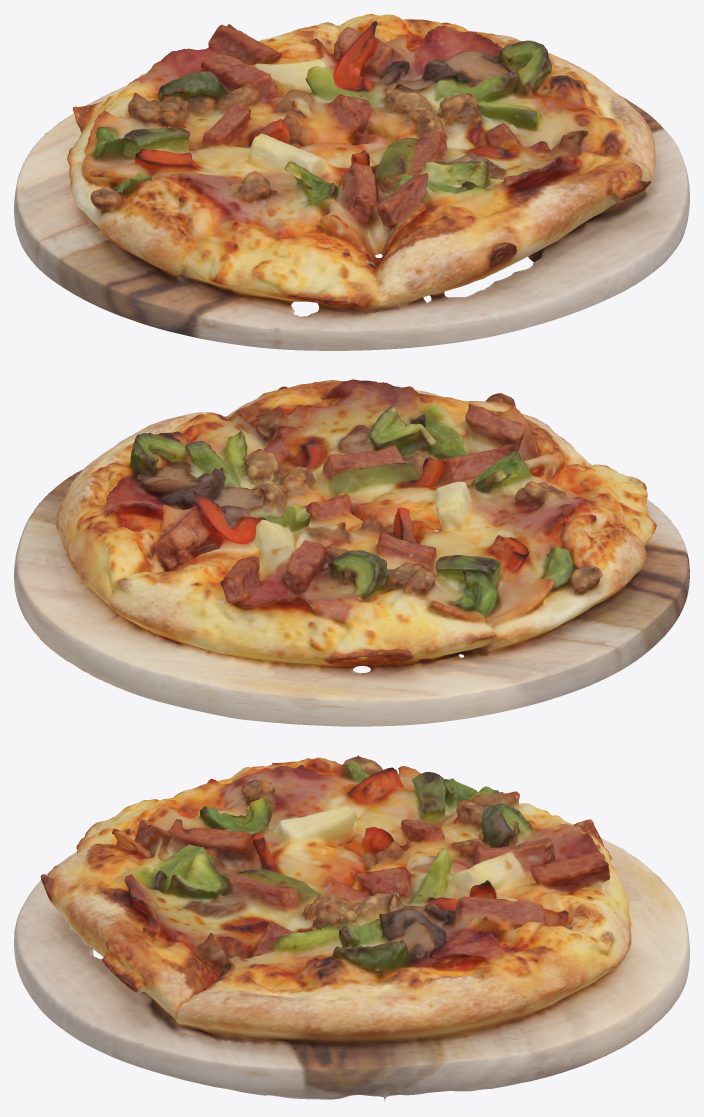
File: pizza.glb
3 renders of one model, top to bottom at view 1: azimuth 30°, elevation 25°; view 2: azimuth 150°, elevation 25°; view 3: azimuth 270°, elevation 25°, orthographic.
Visible parts, largest first — view 1: mainMeshNode; view 2: mainMeshNode; view 3: mainMeshNode.
Part boxes in pixels (x1=…): mainMeshNode: x1=14, y1=14, x2=689, y2=350; mainMeshNode: x1=14, y1=379, x2=689, y2=726; mainMeshNode: x1=14, y1=755, x2=689, y2=1101.
Size of the model in its own units: 24.04 by 4.78 by 23.38.
1 material, 1 textured.
